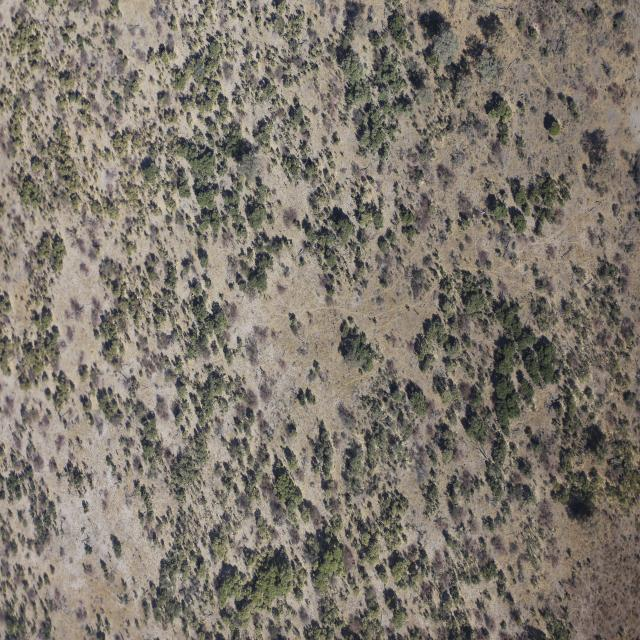elephant: (588, 562, 594, 571), (566, 632, 572, 640), (556, 613, 556, 614)
